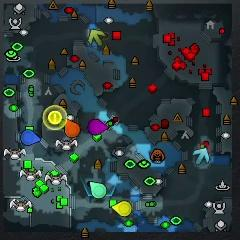Other: (48, 111, 62, 125)
p1: (21, 130, 40, 146)
p2: (90, 182, 106, 199)
p3: (88, 119, 108, 135)
p4: (112, 201, 132, 216)
p5: (65, 118, 80, 138)
x2: (88, 29, 105, 46)
x3: (194, 148, 209, 166)
